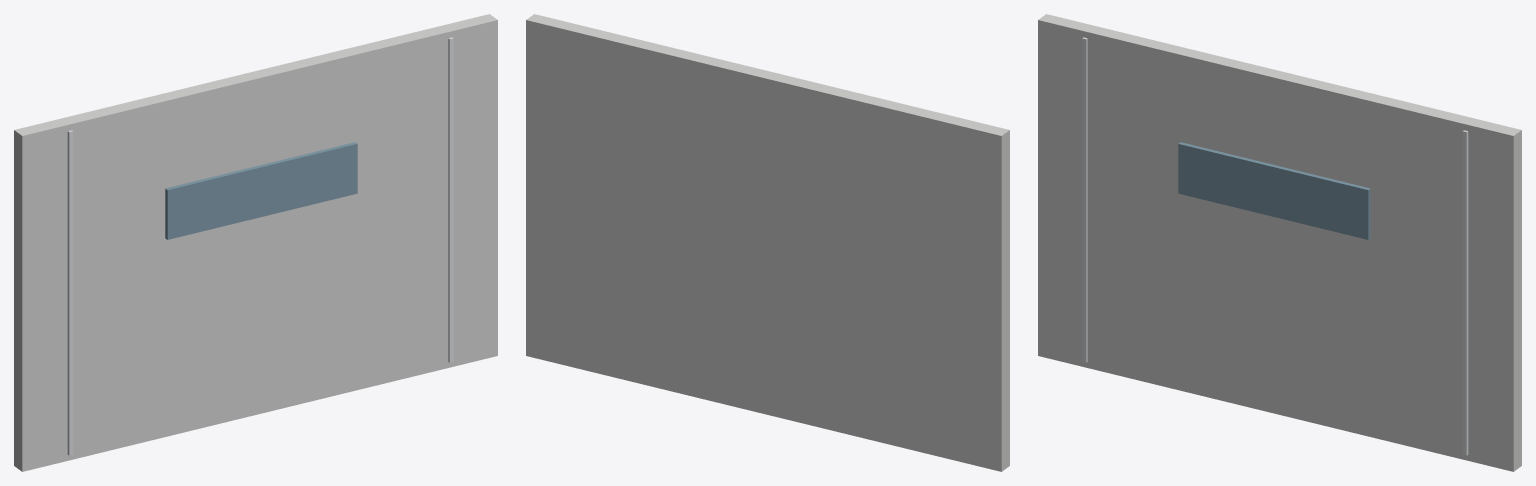
The model's file is road-car-showroom-lineup-feature-wall-panel-6ea98a11__15136.glb.
3 renders of one model, left to right at view 1: azimuth 30°, elevation 25°; view 2: azimuth 150°, elevation 25°; view 3: azimuth 330°, elevation 25°, orthographic.
Parts seen in each view (by area): view 1: feature-wall-panel; view 2: feature-wall-panel; view 3: feature-wall-panel.
Part boxes in pixels (x1=…): feature-wall-panel: x1=14, y1=14, x2=497, y2=471; feature-wall-panel: x1=526, y1=14, x2=1009, y2=471; feature-wall-panel: x1=1038, y1=14, x2=1521, y2=471.
Bounding box in the file's own units: 4 × 2.7 × 0.1575.
